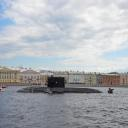submarine: (18, 77, 114, 95)
